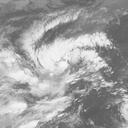cyclone: (38, 48, 68, 72)
